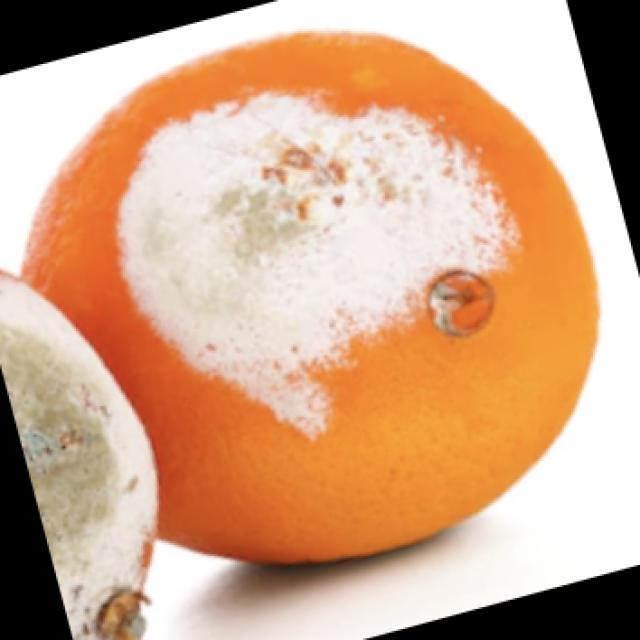sedikit-busuk: (119, 94, 518, 438)
